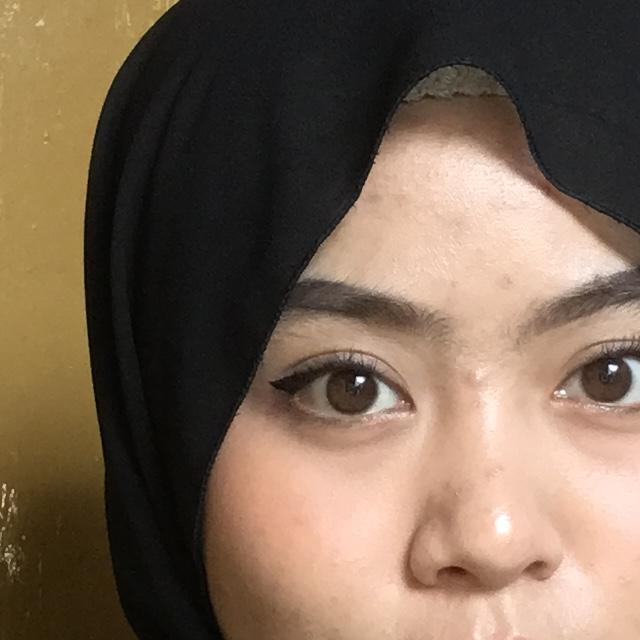kapan: (0, 226, 300, 640)
